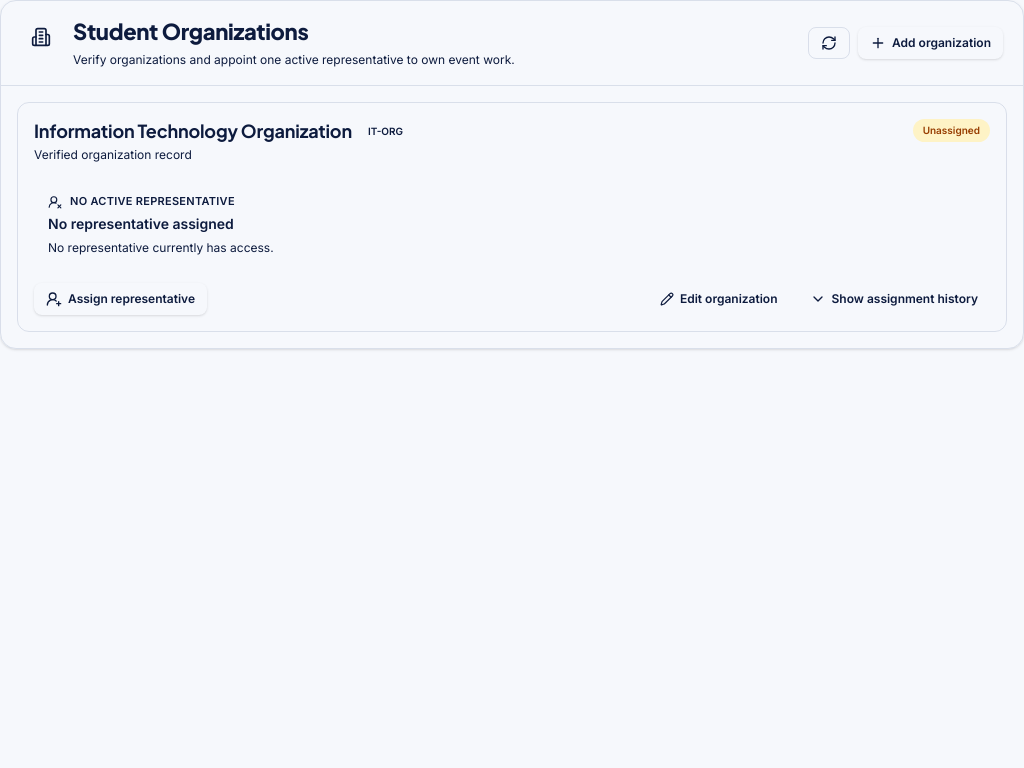
Scenario: AdminOrganizationsPanel › keeps organization edits open with the latest error when a duplicate code is rejected
Click the button "Edit organization".
click(719, 299)  # box [648, 283, 790, 315]
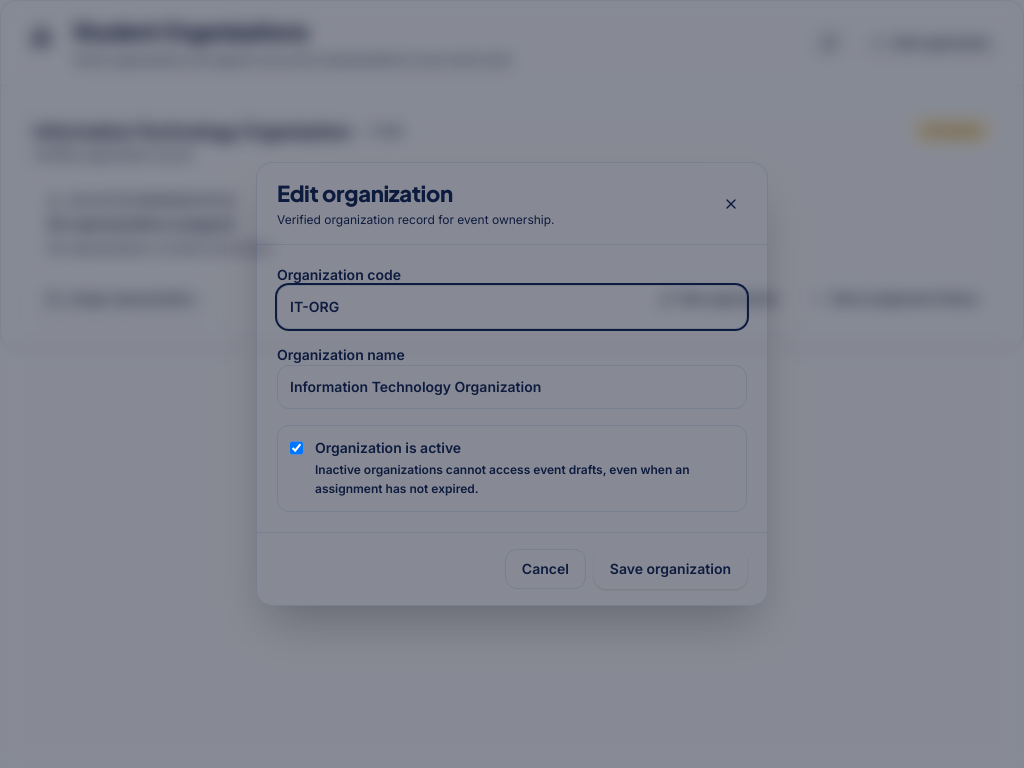
Replace the text in the field labelled "Organization code" with "DUPLICATE" at (512, 307), box [277, 285, 747, 329]
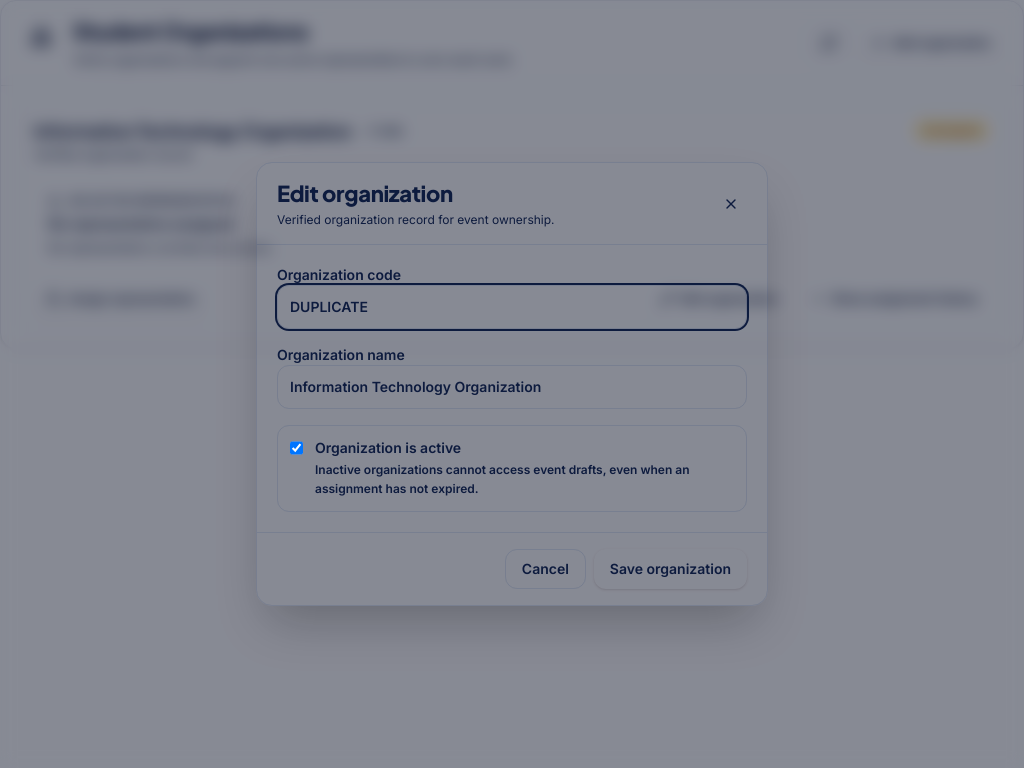
Click the button "Save organization".
click(670, 569)  # box [594, 549, 747, 589]
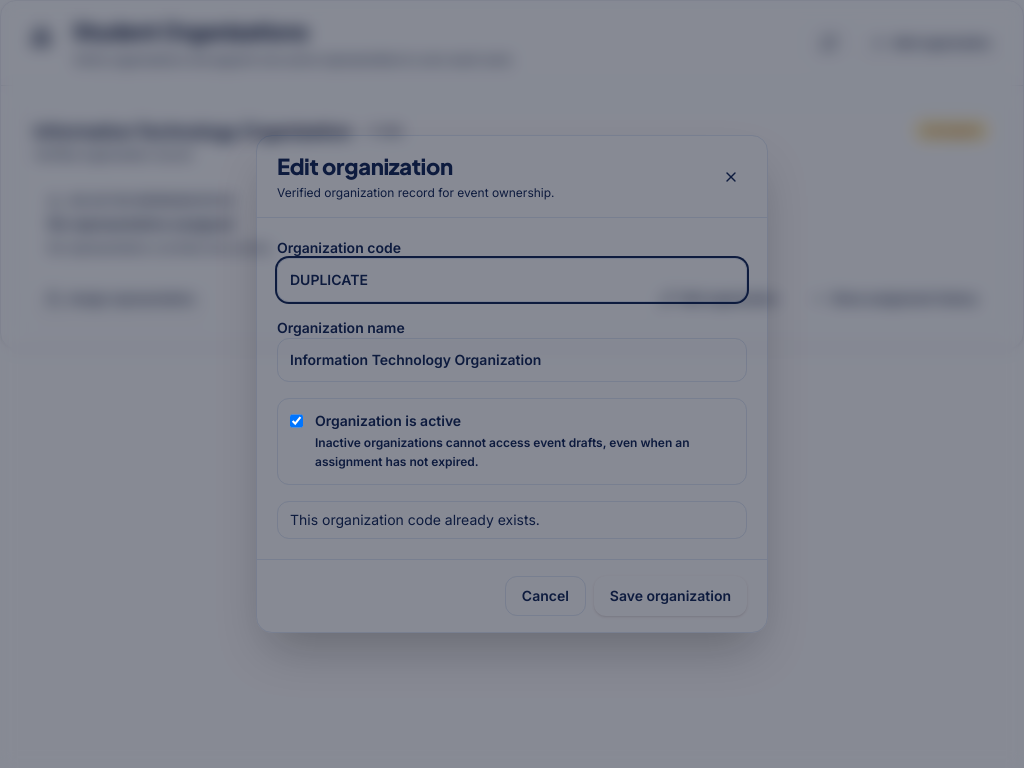
Expected: the message reads "This organization code already exists.", [290, 511, 540, 528]
